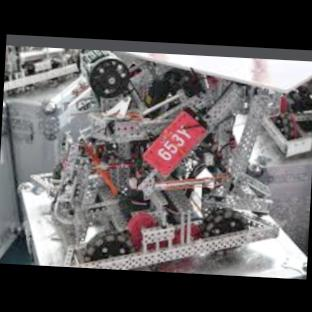Robot: (28, 48, 276, 269)
